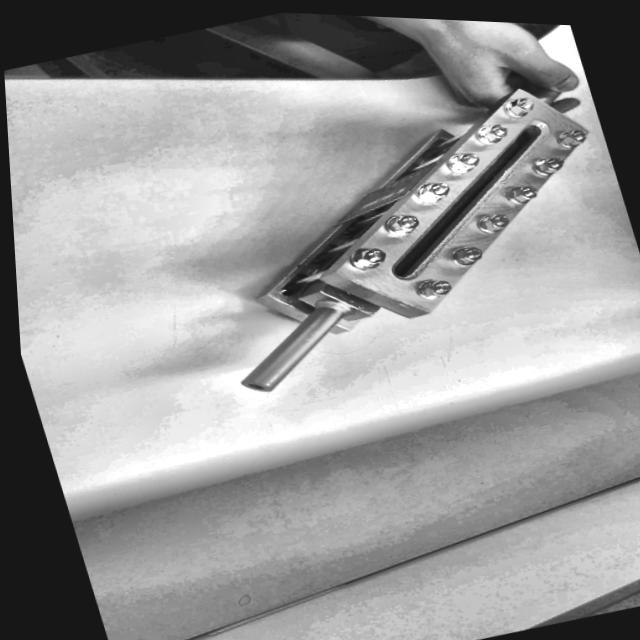ShuiWeiQi_12: (141, 62, 640, 435)
